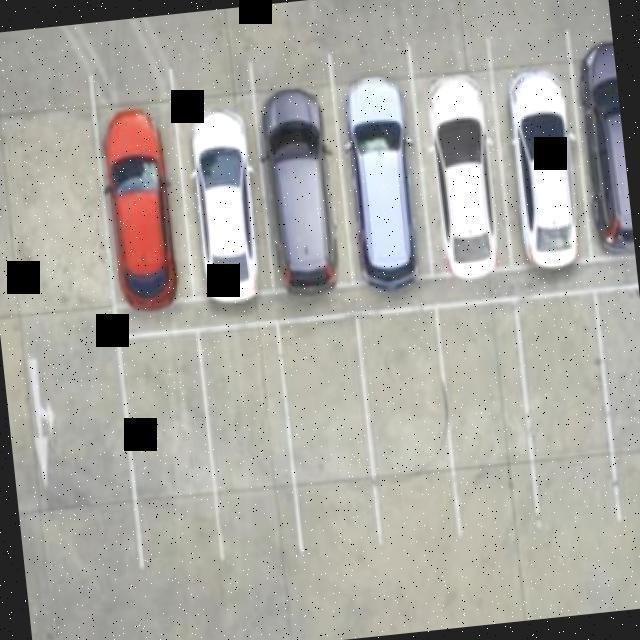car: (91, 95, 196, 328), (334, 53, 431, 301), (419, 46, 512, 302), (492, 61, 590, 290), (256, 74, 350, 305), (179, 94, 275, 316), (556, 14, 634, 260)
free: (518, 302, 616, 553), (200, 329, 300, 567), (446, 305, 541, 553), (122, 332, 216, 566), (362, 311, 456, 543), (284, 318, 376, 554), (588, 292, 640, 546)
